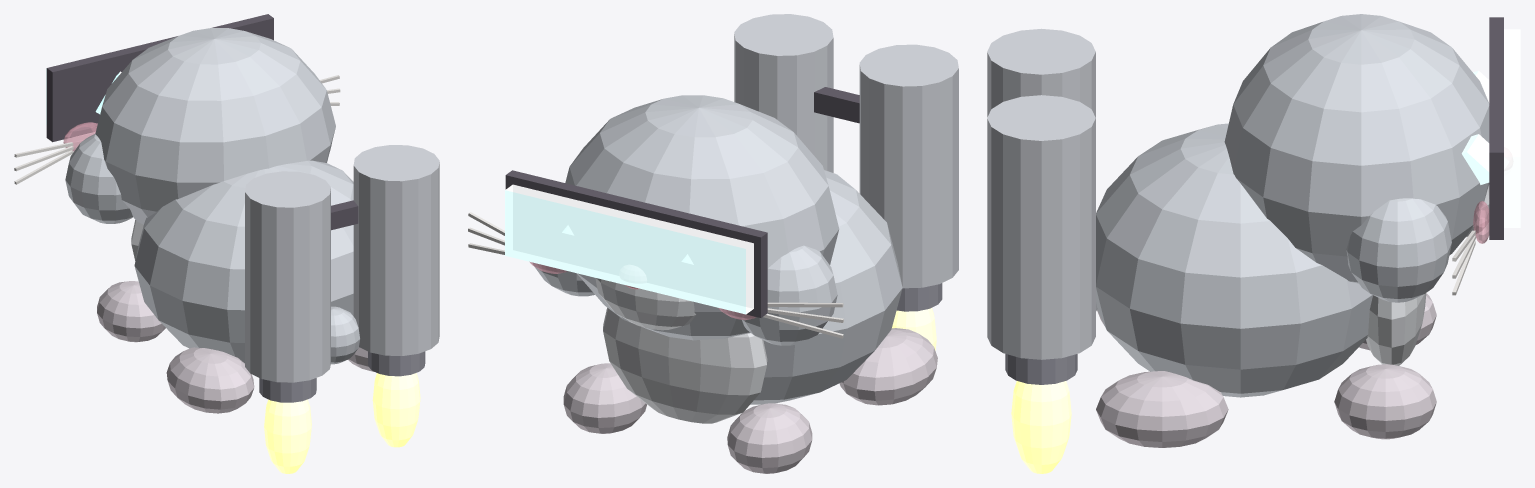
File: EpicHamsterRobot.glb
The picture shows the model from 3 angles, left to right: view 1: azimuth 30°, elevation 25°; view 2: azimuth 150°, elevation 25°; view 3: azimuth 270°, elevation 25°; orthographic projection. The views are drawn at different scales.
Visible parts, largest first — view 1: EpicHamsterRobot_4, EpicHamsterRobot_5, EpicHamsterRobot_6, EpicHamsterRobot_0, EpicHamsterRobot_11, EpicHamsterRobot_1, EpicHamsterRobot_8, EpicHamsterRobot_10; view 2: EpicHamsterRobot_4, EpicHamsterRobot_5, EpicHamsterRobot_3, EpicHamsterRobot_7, EpicHamsterRobot_6, EpicHamsterRobot_0, EpicHamsterRobot_8, EpicHamsterRobot_11, EpicHamsterRobot_1; view 3: EpicHamsterRobot_4, EpicHamsterRobot_5, EpicHamsterRobot_6, EpicHamsterRobot_11, EpicHamsterRobot_7, EpicHamsterRobot_3, EpicHamsterRobot_0, EpicHamsterRobot_1, EpicHamsterRobot_2, EpicHamsterRobot_8, EpicHamsterRobot_10.
Boxes of the visible parts, box(x1,y1,x2,y2) form: EpicHamsterRobot_4: box(65, 28, 359, 364); EpicHamsterRobot_5: box(245, 145, 439, 382); EpicHamsterRobot_6: box(97, 281, 374, 413); EpicHamsterRobot_0: box(46, 14, 358, 230); EpicHamsterRobot_11: box(264, 373, 420, 473); EpicHamsterRobot_1: box(259, 351, 425, 402); EpicHamsterRobot_8: box(14, 75, 340, 184); EpicHamsterRobot_10: box(63, 122, 97, 151); EpicHamsterRobot_4: box(533, 95, 902, 404); EpicHamsterRobot_5: box(734, 14, 958, 288); EpicHamsterRobot_3: box(505, 184, 753, 314); EpicHamsterRobot_7: box(595, 278, 767, 423); EpicHamsterRobot_6: box(563, 328, 937, 473); EpicHamsterRobot_0: box(505, 87, 859, 317); EpicHamsterRobot_8: box(468, 212, 843, 338); EpicHamsterRobot_11: box(892, 308, 936, 350); EpicHamsterRobot_1: box(897, 283, 942, 311); EpicHamsterRobot_4: box(1096, 14, 1489, 397); EpicHamsterRobot_5: box(987, 28, 1095, 359); EpicHamsterRobot_6: box(1096, 293, 1436, 447); EpicHamsterRobot_11: box(1011, 381, 1071, 473); EpicHamsterRobot_7: box(1366, 185, 1489, 365); EpicHamsterRobot_3: box(1504, 29, 1520, 227); EpicHamsterRobot_0: box(1489, 17, 1503, 239); EpicHamsterRobot_1: box(1005, 354, 1077, 384); EpicHamsterRobot_2: box(1461, 70, 1489, 184); EpicHamsterRobot_8: box(1452, 230, 1475, 295); EpicHamsterRobot_10: box(1473, 201, 1489, 243).
Bounding box in the file's own units: 3.89 × 3.75 × 4.42.
